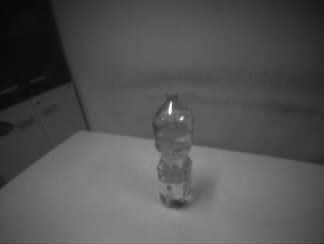Bottle: (151, 89, 196, 209)
